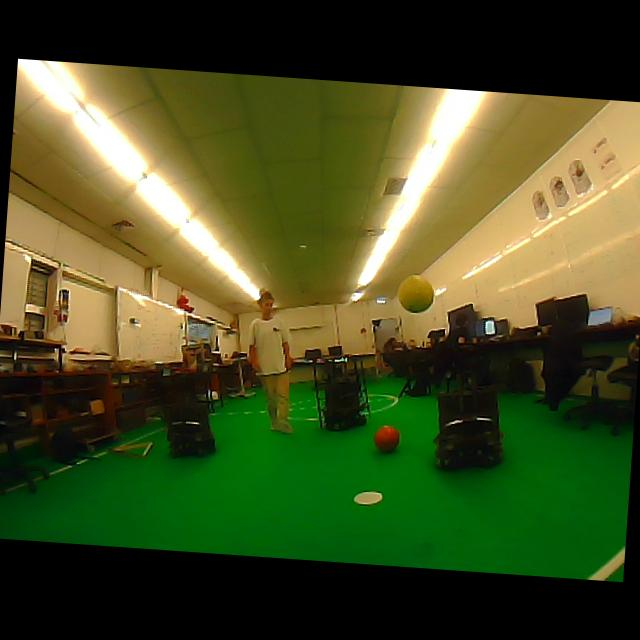ball: (397, 274, 434, 312), (373, 425, 400, 452)
robot: (434, 386, 502, 468), (313, 355, 370, 430), (165, 403, 214, 456)
